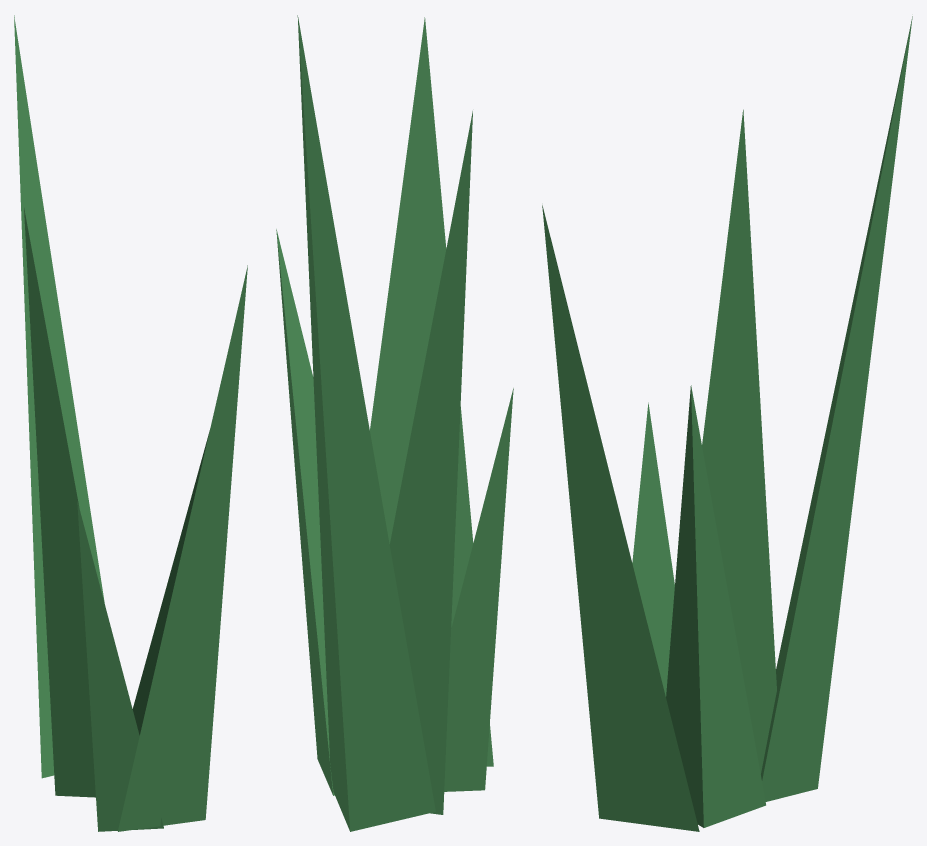
Rendered from grass.fbx.
3 renders of one model, left to right at view 1: azimuth 30°, elevation 25°; view 2: azimuth 150°, elevation 25°; view 3: azimuth 270°, elevation 25°, orthographic. The views are drawn at different scales.
Visible parts, largest first — view 1: Cone; view 2: Cone; view 3: Cone.
Boxes of the visible parts, x1,y1,x2,y2 form: Cone: (14, 15, 247, 831); Cone: (276, 15, 513, 831); Cone: (542, 16, 912, 831).
Bounding box in the file's own units: 126 × 465 × 198.
